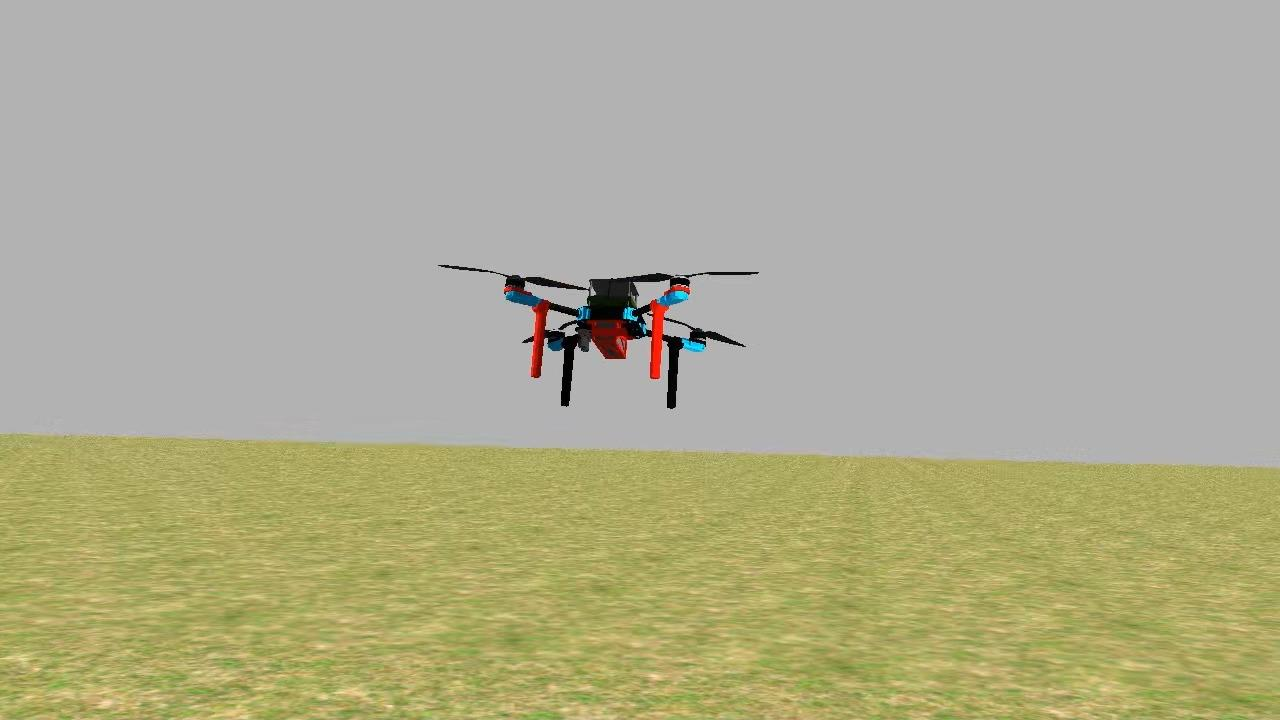UAV: (491, 260, 718, 422)
